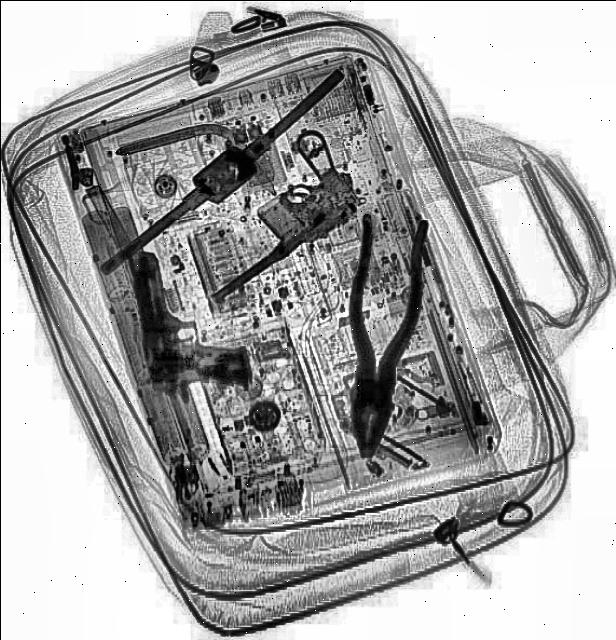Gun: (165, 126, 376, 314), (122, 237, 254, 409)
Pliers: (328, 214, 430, 464)
